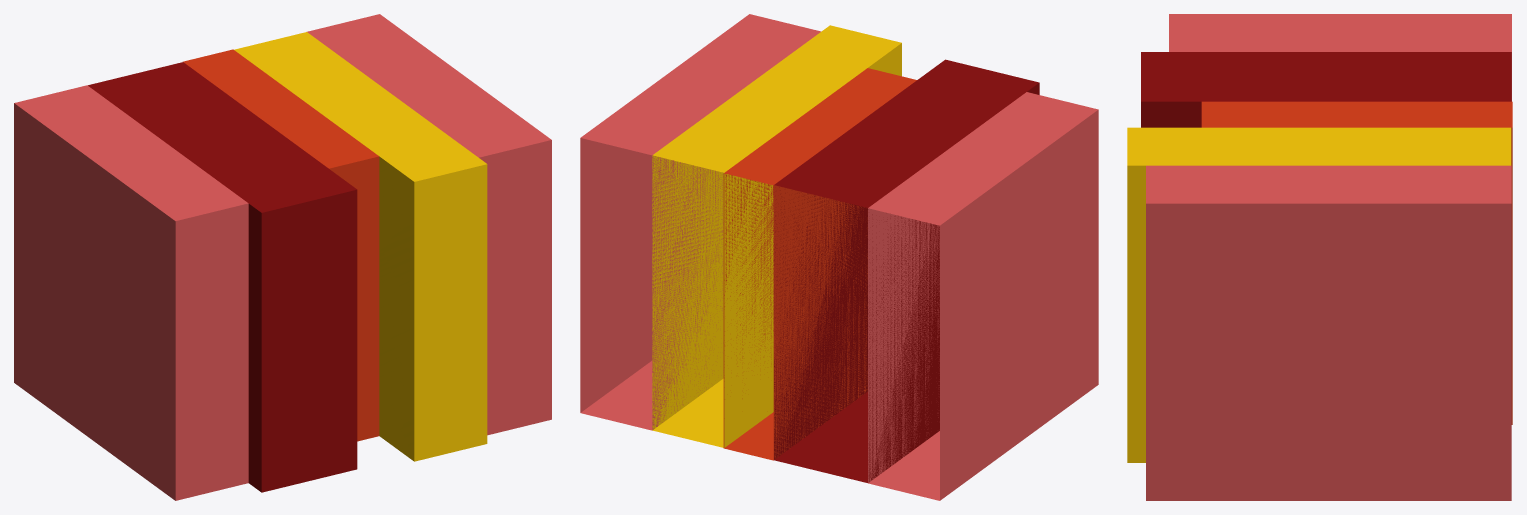
File: RG_Dungeon_Books-04.fbx
The picture shows the model from 3 angles, left to right: view 1: azimuth 30°, elevation 25°; view 2: azimuth 150°, elevation 25°; view 3: azimuth 270°, elevation 25°; orthographic projection. The views are drawn at different scales.
Visible parts, largest first — view 1: RG_Dungeon_Books-04; view 2: RG_Dungeon_Books-04; view 3: RG_Dungeon_Books-04.
Boxes of the visible parts, x1,y1,x2,y2 form: RG_Dungeon_Books-04: [14, 14, 551, 500]; RG_Dungeon_Books-04: [580, 14, 1098, 500]; RG_Dungeon_Books-04: [1127, 14, 1512, 500].
Bounding box in the file's own units: 2.23 × 1.63 × 1.91.
